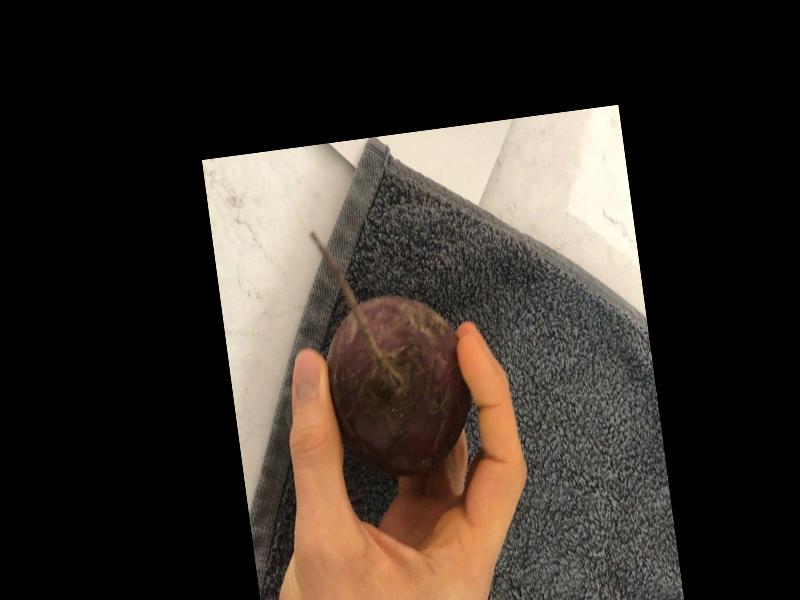Beet: (308, 212, 479, 483)
